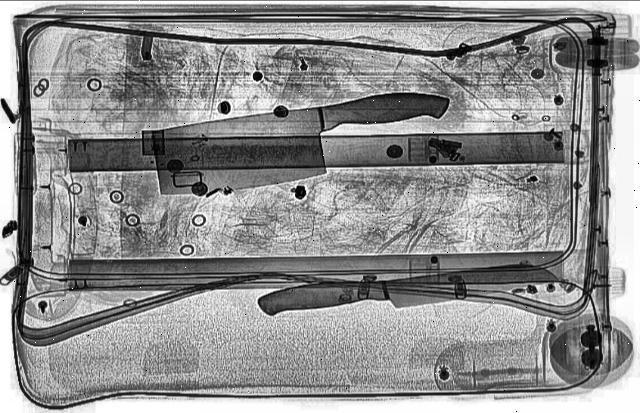Knife: (130, 82, 477, 204), (253, 260, 564, 324)
